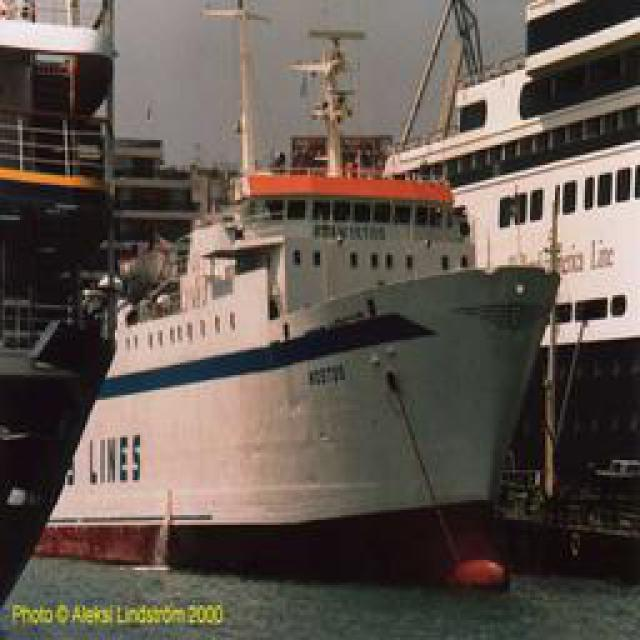Ship: (21, 104, 554, 600)
